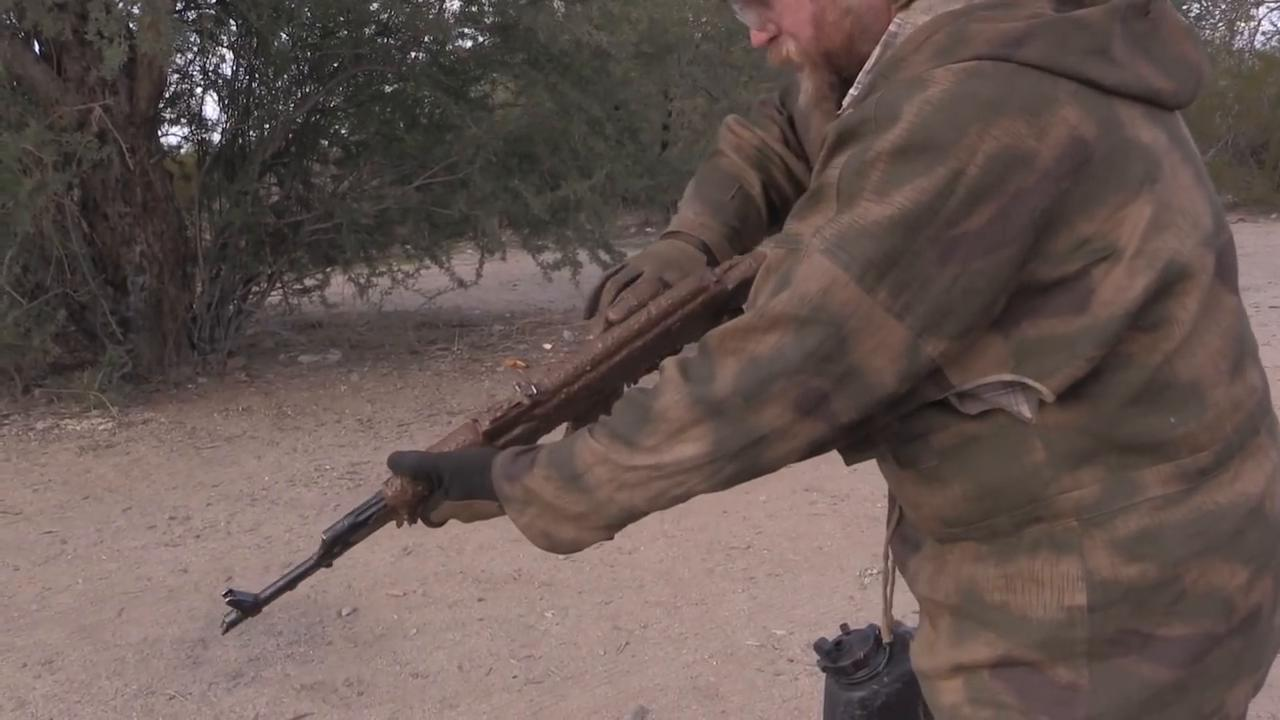AK47 Rifle: (217, 234, 773, 637)
